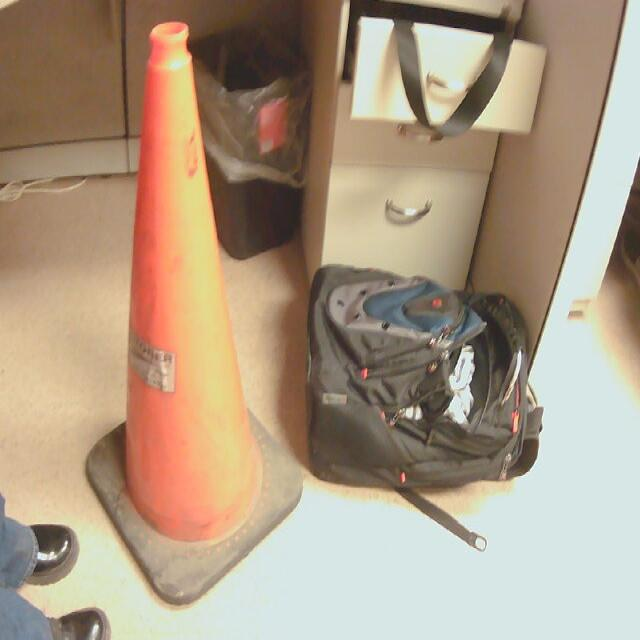traffic cone: (86, 24, 304, 606)
